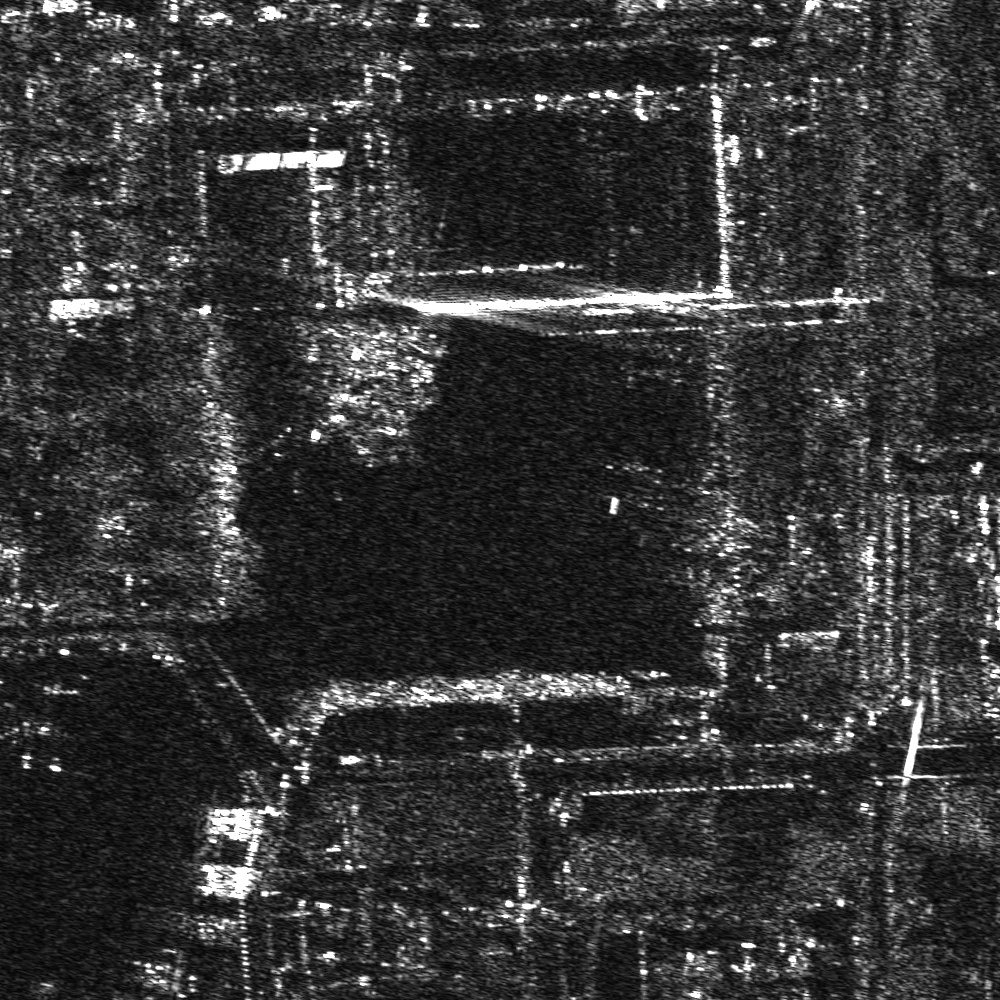A220: (605, 448, 669, 513)
